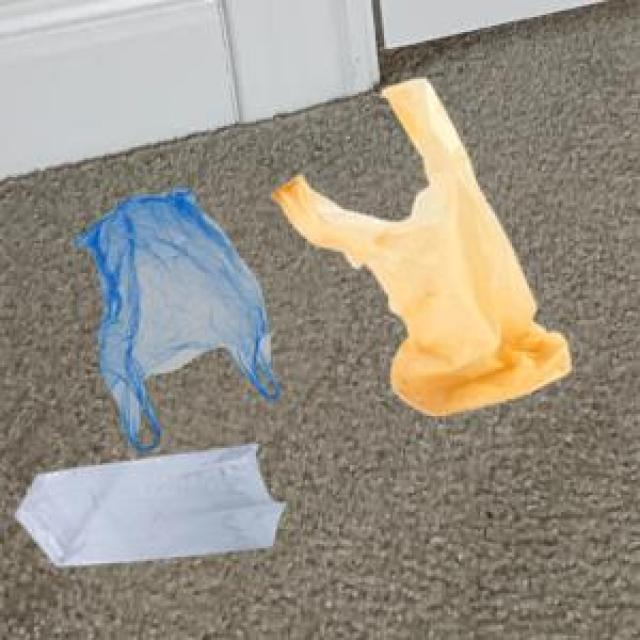plastic: (22, 68, 584, 584)
